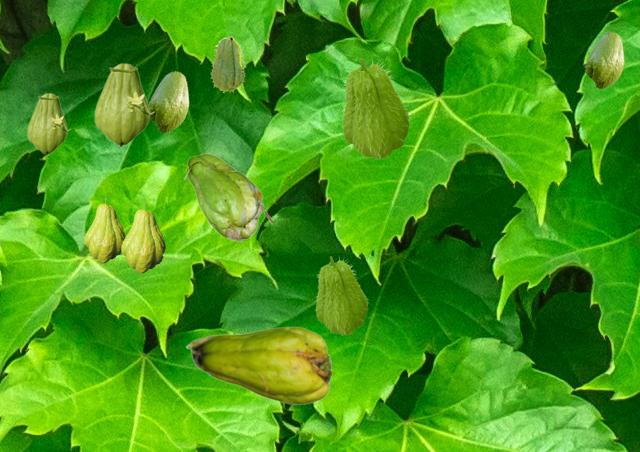sayote: (185, 326, 330, 404), (183, 153, 271, 241), (340, 57, 410, 158), (94, 63, 154, 146), (314, 255, 368, 334), (121, 202, 164, 272), (27, 93, 70, 154), (84, 197, 124, 262), (148, 71, 188, 132), (584, 32, 623, 88), (210, 36, 245, 92)
